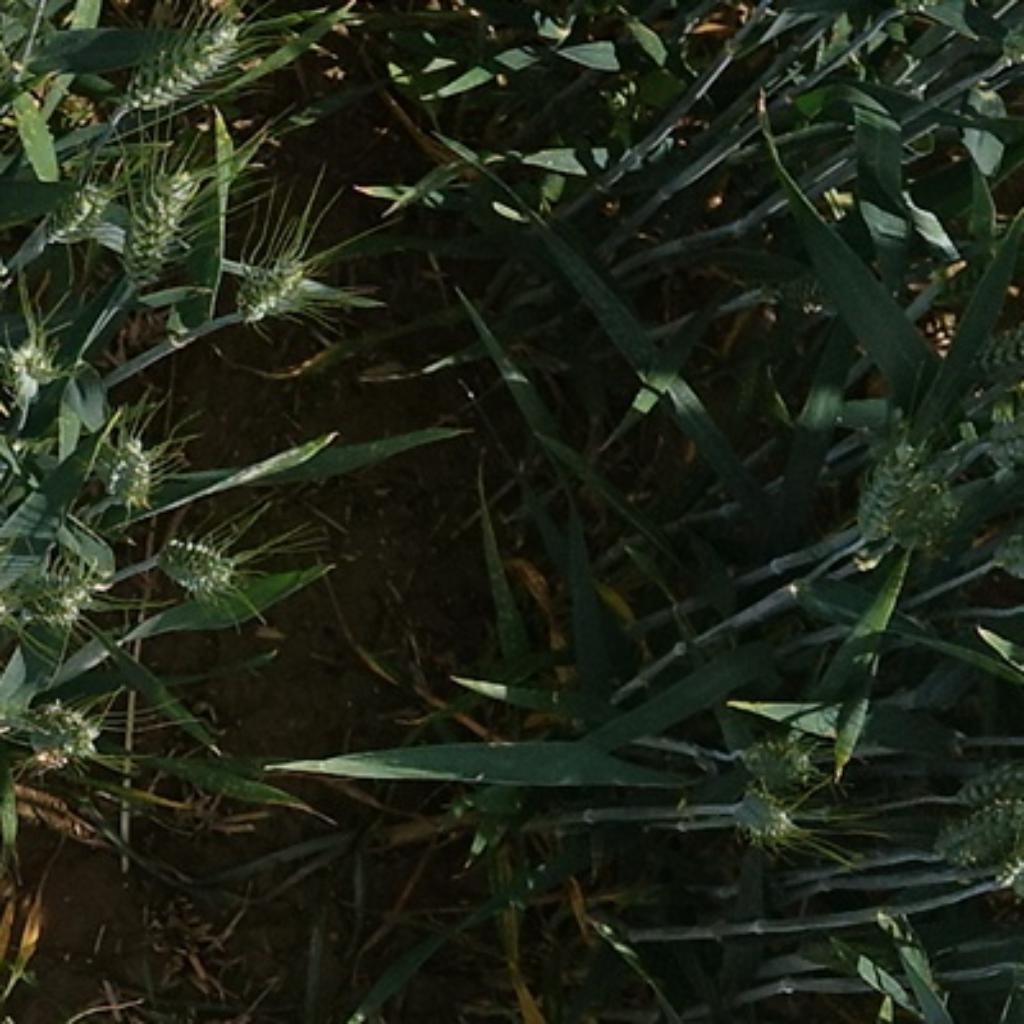0-0: (110, 2, 253, 115), (110, 153, 199, 284), (844, 427, 919, 557), (225, 240, 330, 322), (35, 171, 133, 258), (17, 688, 110, 775), (79, 419, 166, 509), (153, 522, 248, 599), (729, 719, 829, 791), (20, 547, 99, 634), (930, 800, 1024, 861), (943, 750, 1024, 817), (0, 330, 71, 404), (719, 780, 801, 844), (895, 474, 954, 561), (751, 263, 817, 317)
